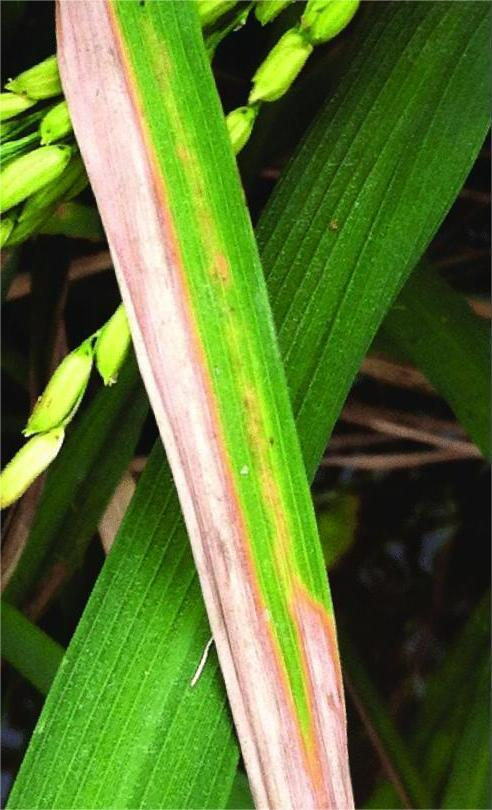BLB: (56, 1, 352, 808)
LEAF: (55, 0, 353, 809)
